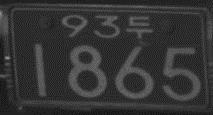1: (26, 43, 59, 97)
3: (93, 14, 120, 39)
5: (161, 47, 201, 102)
6: (114, 44, 153, 100)
8: (66, 44, 107, 98)
9: (61, 13, 88, 37)
두: (125, 15, 153, 39)
